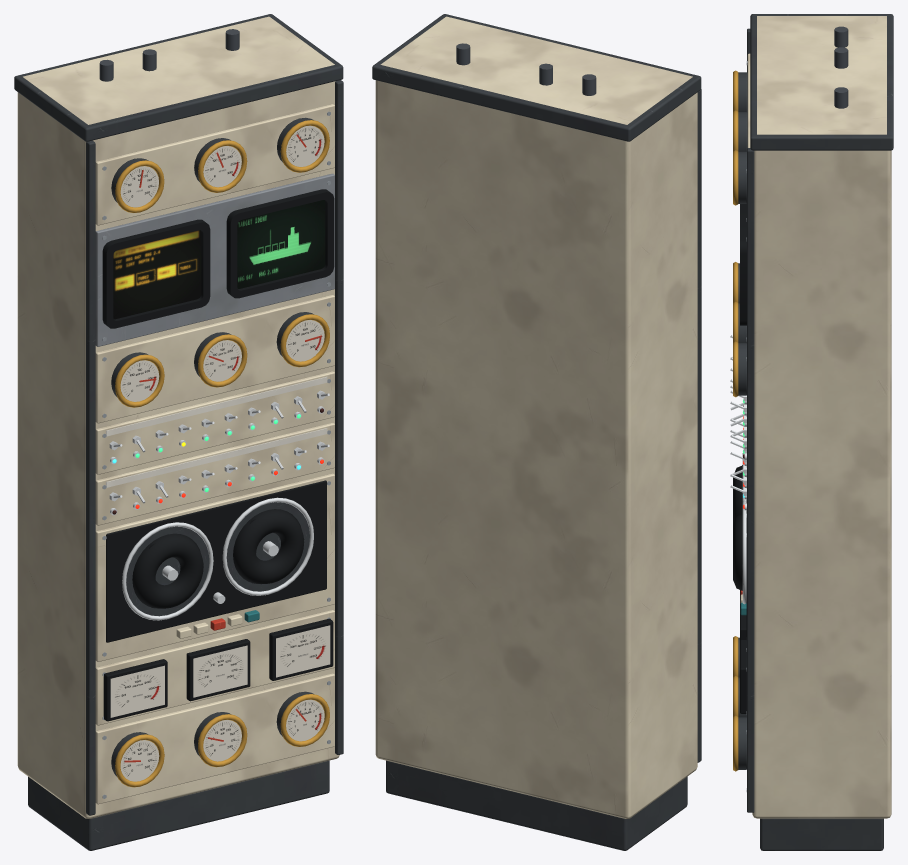
Rendered from Rack_75_2.glb.
The picture shows the model from 3 angles, left to right: view 1: azimuth 30°, elevation 25°; view 2: azimuth 150°, elevation 25°; view 3: azimuth 270°, elevation 25°; orthographic projection.
Visible parts, largest first — view 1: Rack_75_2_Body; view 2: Rack_75_2_Body; view 3: Rack_75_2_Body.
Boxes of the visible parts, box(x1,y1,x2,y2) form: Rack_75_2_Body: box(14, 14, 343, 850); Rack_75_2_Body: box(372, 14, 701, 850); Rack_75_2_Body: box(730, 14, 893, 850).
Bounding box in the file's own units: 0.76 × 2.1 × 0.4216.
Materials: 22 (11 with a texture image).
